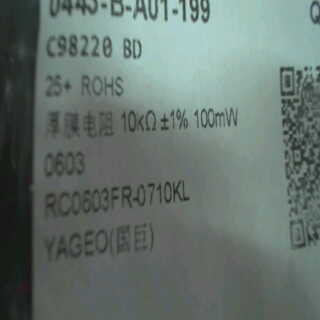10kR: (119, 106, 161, 139)
